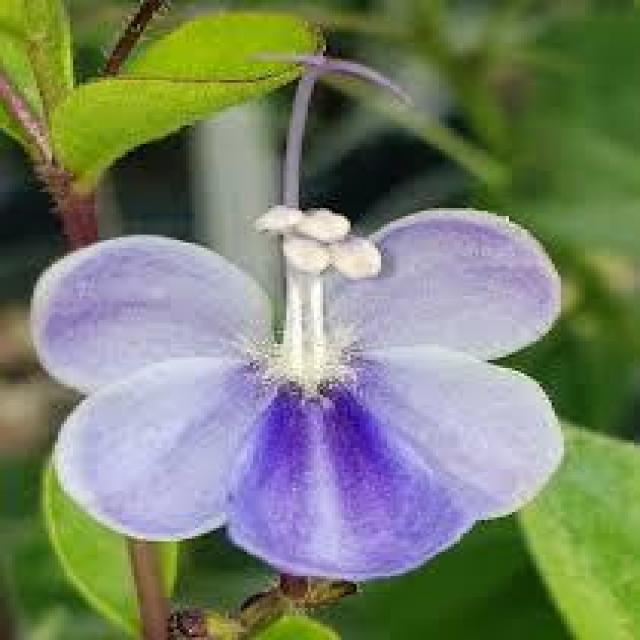organic waste: (33, 197, 573, 560)
